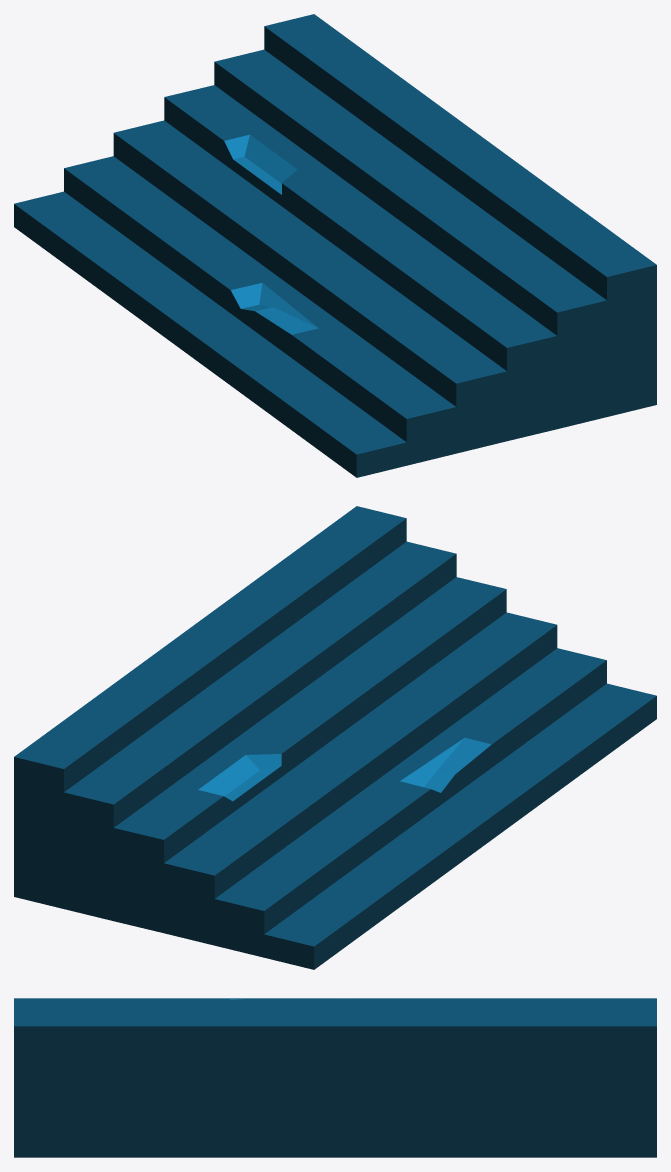
File: stair_type_05.fbx
3 views of the same model, one above another, from view 1: azimuth 30°, elevation 25°; view 2: azimuth 150°, elevation 25°; view 3: azimuth 270°, elevation 25° (orthographic). The views are drawn at different scales.
Visible parts, largest first — view 1: stair_type_05; view 2: stair_type_05; view 3: stair_type_05.
Part boxes in pixels (bbox=[...]): stair_type_05: bbox=[14, 14, 656, 477]; stair_type_05: bbox=[14, 506, 656, 969]; stair_type_05: bbox=[14, 998, 656, 1157].
Size of the model in its own units: 202 by 90 by 399.
